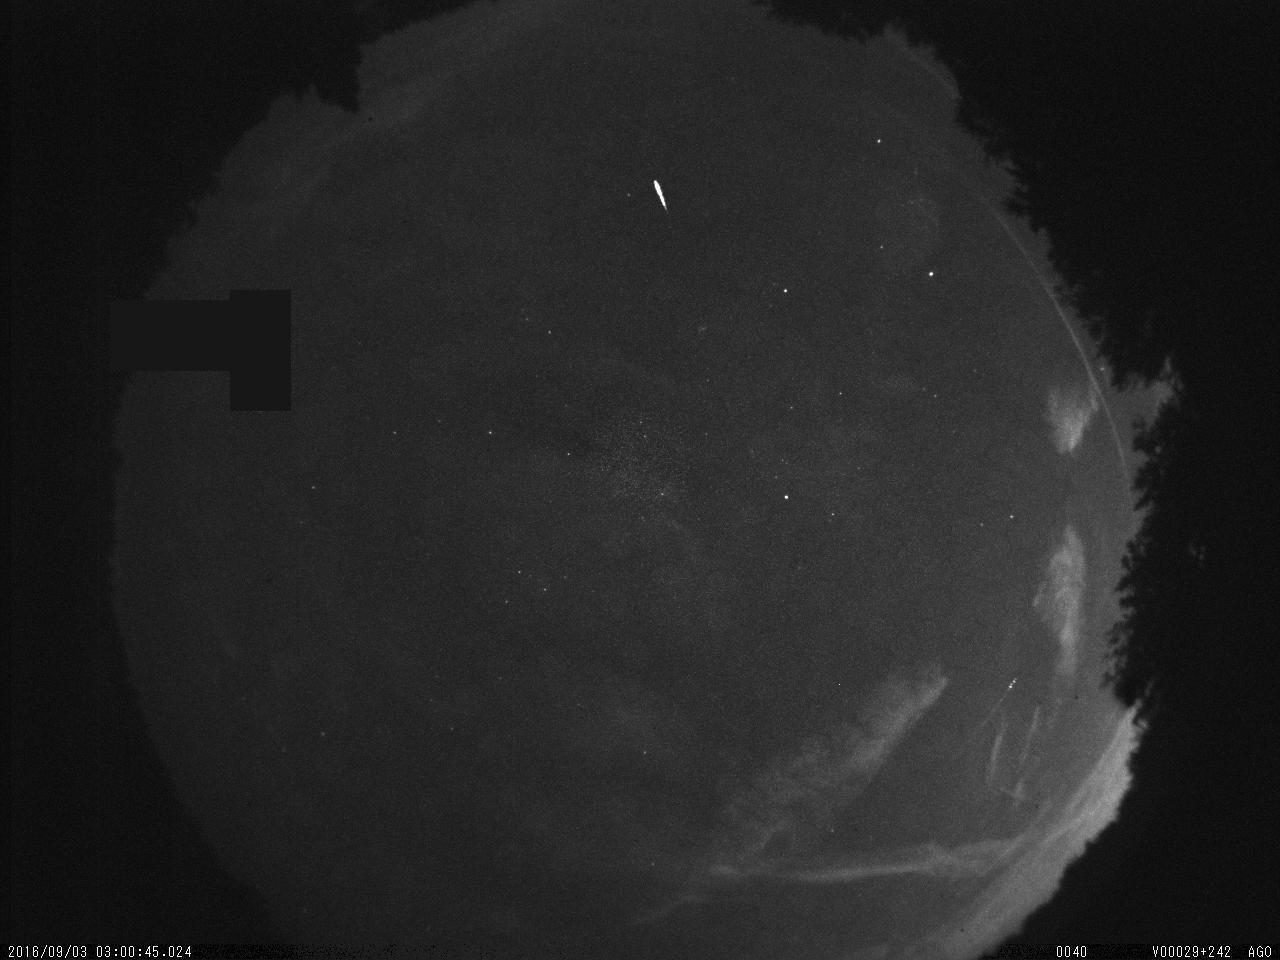Meteor: (649, 169, 677, 222)
